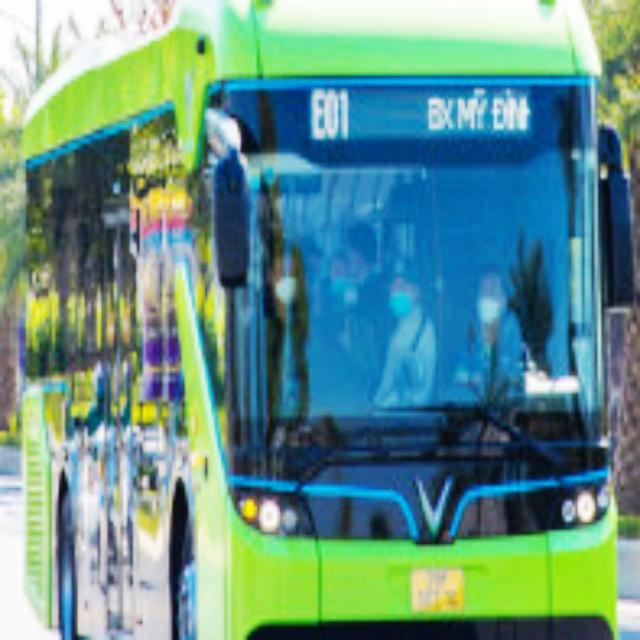Car: (19, 0, 635, 639)
